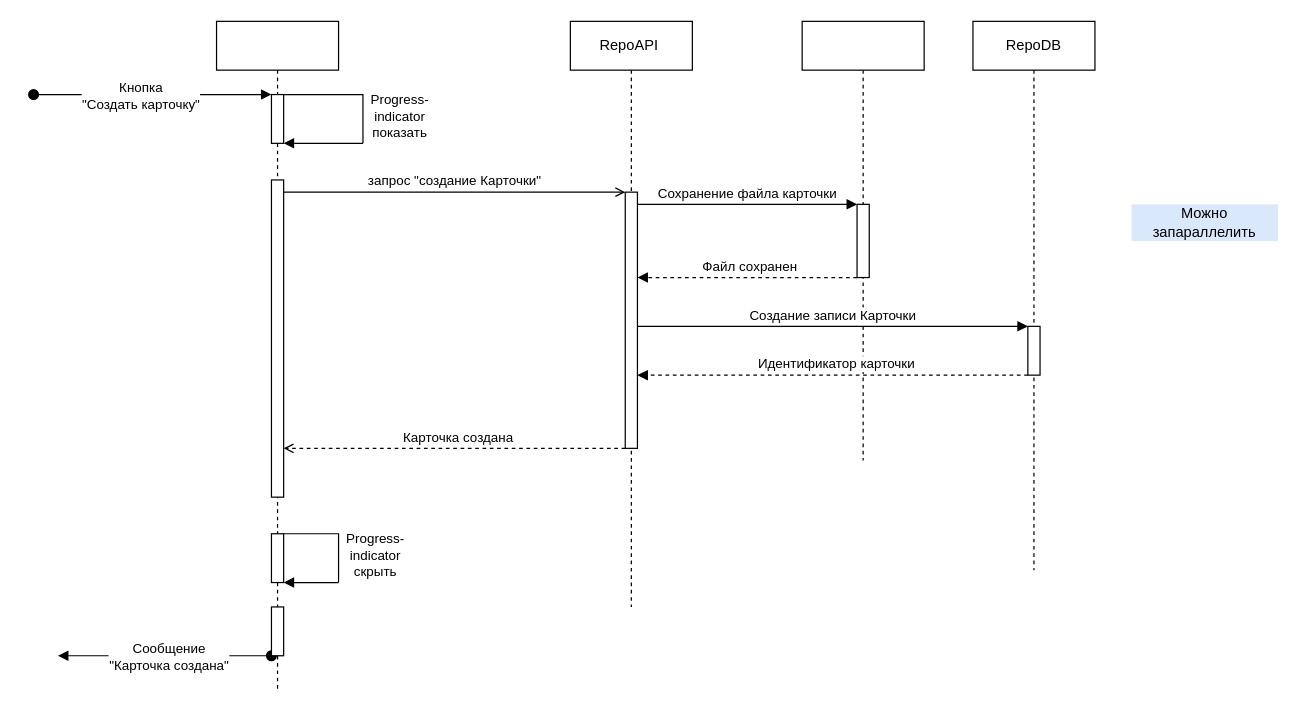
This 1299x714 diagram has some shape labels left out. Here are the shapes that lost their labels. From the top down, the box of each, then its label:
(801, 20, 924, 461): Хранилище файлов
(215, 20, 339, 692): UI Пользователя
